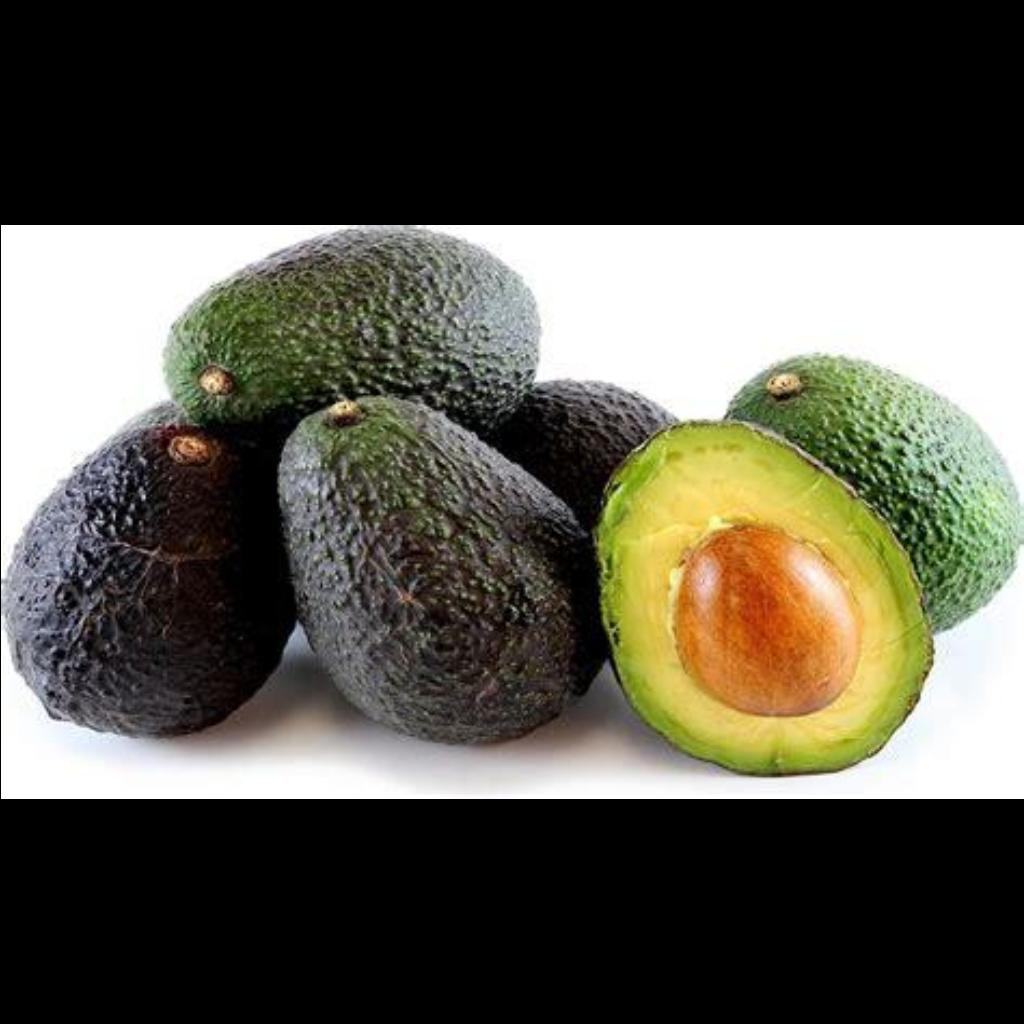Anthracnose: (265, 400, 589, 708)
